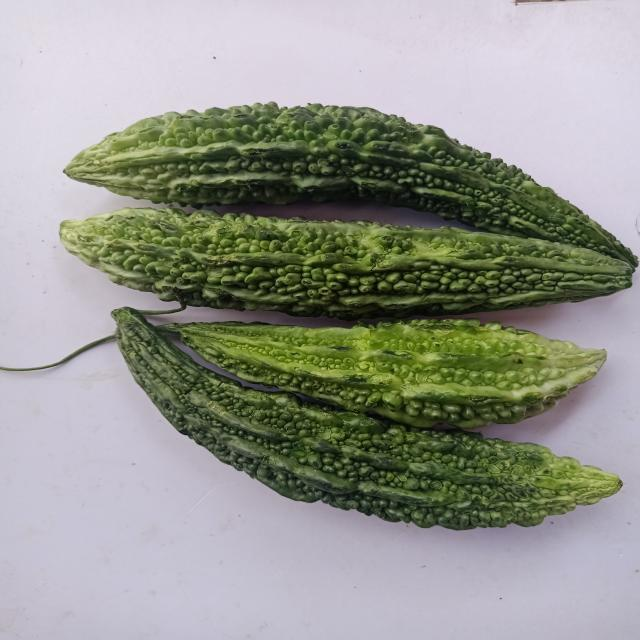Bitter Gourd: (85, 294, 640, 545), (59, 100, 640, 272), (56, 206, 637, 322), (154, 316, 610, 431)
